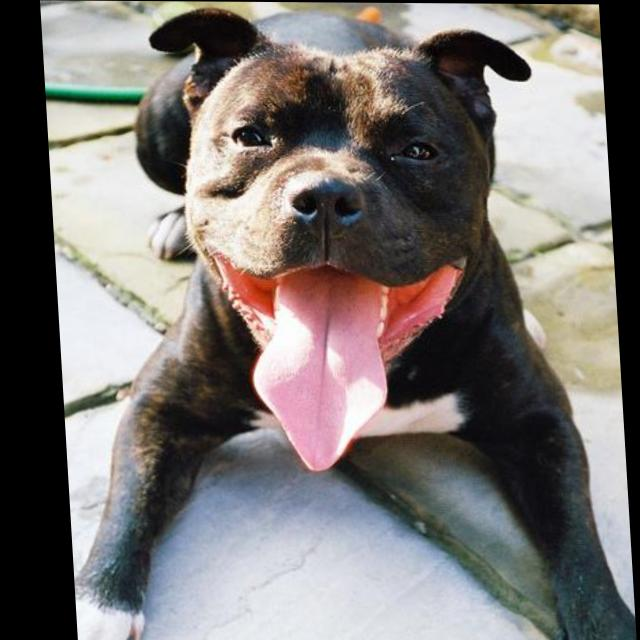amstaff: (42, 6, 630, 640)
